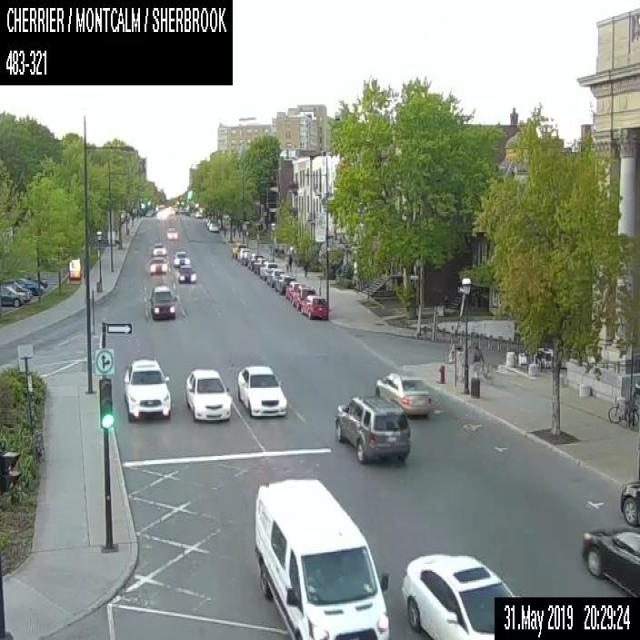pedestrian: (472, 343, 484, 379), (288, 253, 292, 271), (303, 261, 307, 276)
vehicle: (253, 476, 389, 639), (400, 550, 521, 638), (334, 393, 409, 462), (581, 528, 639, 596), (122, 356, 171, 420), (236, 363, 286, 416), (184, 367, 232, 421), (375, 371, 430, 415), (619, 480, 639, 526), (149, 285, 176, 319), (291, 284, 316, 310), (301, 294, 328, 318), (0, 283, 25, 305), (14, 277, 43, 295), (6, 282, 32, 301), (284, 280, 305, 301), (273, 273, 295, 293), (258, 260, 276, 280), (178, 264, 196, 283), (148, 256, 167, 273), (266, 267, 282, 286), (25, 276, 48, 288), (173, 250, 189, 266), (247, 252, 261, 270), (253, 256, 267, 273), (232, 242, 245, 258), (152, 242, 166, 255), (236, 247, 249, 260), (240, 251, 252, 265), (166, 226, 177, 238), (208, 221, 218, 231), (206, 218, 215, 228)
